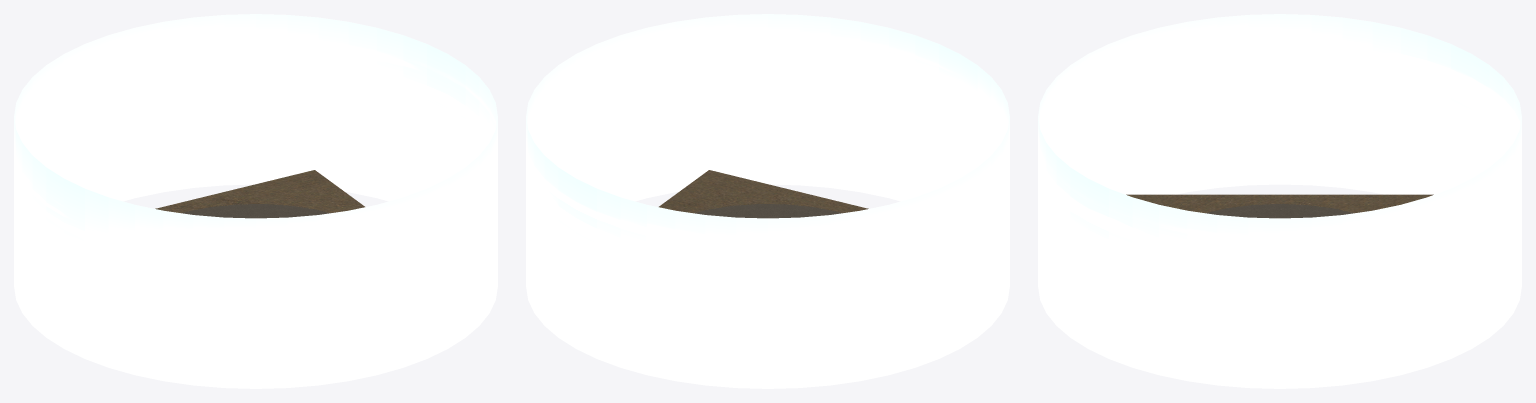
3 renders of one model, left to right at view 1: azimuth 30°, elevation 25°; view 2: azimuth 150°, elevation 25°; view 3: azimuth 270°, elevation 25°, orthographic.
Parts seen in each view (by area): view 1: ENV_Sky_Column, ENV_Terrain_Forest_Floor_Layered, ENV_Road_Asphalt_ClosedLoop; view 2: ENV_Sky_Column, ENV_Terrain_Forest_Floor_Layered, ENV_Road_Asphalt_ClosedLoop; view 3: ENV_Sky_Column, ENV_Terrain_Forest_Floor_Layered, ENV_Road_Asphalt_ClosedLoop.
Boxes of the visible parts, x1=… form: ENV_Sky_Column: x1=14, y1=14, x2=497, y2=388; ENV_Terrain_Forest_Floor_Layered: x1=155, y1=170, x2=364, y2=213; ENV_Road_Asphalt_ClosedLoop: x1=182, y1=204, x2=329, y2=218; ENV_Sky_Column: x1=526, y1=14, x2=1009, y2=388; ENV_Terrain_Forest_Floor_Layered: x1=659, y1=170, x2=868, y2=213; ENV_Road_Asphalt_ClosedLoop: x1=694, y1=204, x2=841, y2=218; ENV_Sky_Column: x1=1038, y1=14, x2=1521, y2=388; ENV_Terrain_Forest_Floor_Layered: x1=1126, y1=194, x2=1433, y2=212; ENV_Road_Asphalt_ClosedLoop: x1=1205, y1=204, x2=1354, y2=218.
Size of the model in its own units: 180 by 70 by 180.
Materials: 20 (7 with a texture image).
